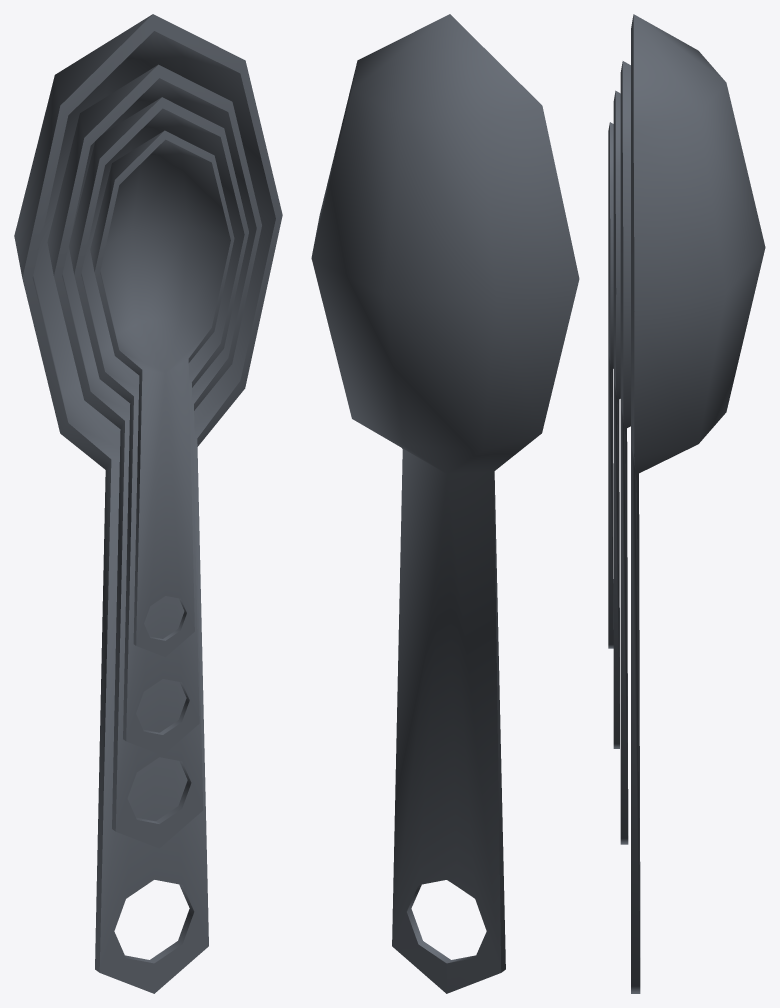
The model's file is mspoon_measuring_spoons_stack_small.glb.
3 views of the same model, side by side, from view 1: azimuth 30°, elevation 25°; view 2: azimuth 150°, elevation 25°; view 3: azimuth 270°, elevation 25° (orthographic).
Parts seen in each view (by area): view 1: mspoon measuring spoons stack small; view 2: mspoon measuring spoons stack small; view 3: mspoon measuring spoons stack small.
Boxes of the visible parts, bbox=[...] form: mspoon measuring spoons stack small: bbox=[14, 14, 282, 993]; mspoon measuring spoons stack small: bbox=[311, 14, 579, 993]; mspoon measuring spoons stack small: bbox=[608, 14, 765, 993].
Size of the model in its own units: 0.4772 by 1.71 by 0.249.
1 material, 1 textured.
